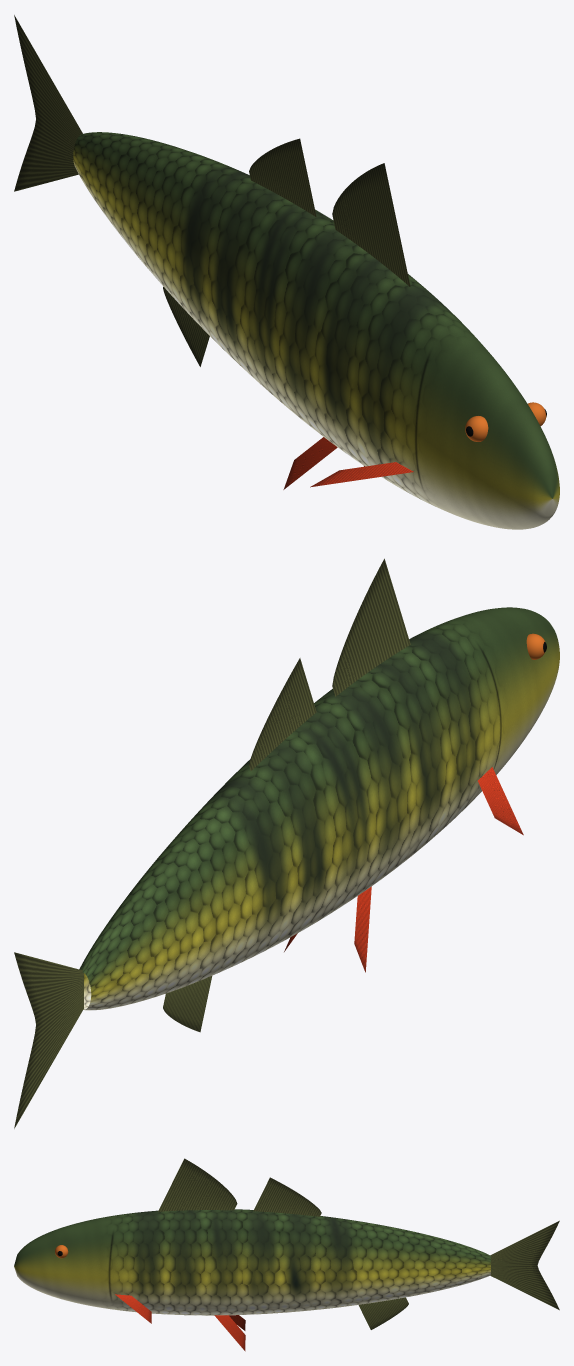
File: okun_trophy.obj
The picture shows the model from 3 angles, top to bottom: view 1: azimuth 30°, elevation 25°; view 2: azimuth 150°, elevation 25°; view 3: azimuth 270°, elevation 25°; orthographic projection. The views are drawn at different scales.
Visible parts, largest first — view 1: body, fin_tail, fin_dorsal0, fin_dorsal1, fin_anal0, fin_pect_R, fin_pelv_R; view 2: body, fin_tail, fin_dorsal0, fin_dorsal1, fin_anal0, fin_pect_R, fin_pelv_R; view 3: body, fin_tail, fin_dorsal0, fin_dorsal1, fin_anal0, fin_pelv_L, fin_pect_L.
Boxes of the visible parts, left/top/right/bottom form: body: left=73, top=132, right=559, bottom=529; fin_tail: left=14, top=15, right=82, bottom=191; fin_dorsal0: left=332, top=163, right=410, bottom=286; fin_dorsal1: left=249, top=138, right=316, bottom=216; fin_anal0: left=163, top=287, right=209, bottom=366; fin_pect_R: left=310, top=462, right=413, bottom=487; fin_pelv_R: left=283, top=437, right=337, bottom=489; body: left=79, top=607, right=559, bottom=1010; fin_tail: left=14, top=952, right=83, bottom=1128; fin_dorsal0: left=332, top=558, right=410, bottom=696; fin_dorsal1: left=249, top=658, right=316, bottom=770; fin_anal0: left=163, top=976, right=212, bottom=1032; fin_pect_R: left=478, top=767, right=523, bottom=835; fin_pelv_R: left=354, top=886, right=371, bottom=972; body: left=14, top=1209, right=490, bottom=1315; fin_tail: left=490, top=1220, right=559, bottom=1310; fin_dorsal0: left=158, top=1158, right=237, bottom=1211; fin_dorsal1: left=253, top=1177, right=321, bottom=1216; fin_anal0: left=358, top=1297, right=408, bottom=1329; fin_pelv_L: left=214, top=1315, right=245, bottom=1351; fin_pect_L: left=115, top=1294, right=151, bottom=1323.
Bounding box in the file's own units: 0.0965 × 0.1553 × 0.42.
5 materials, 3 textured.
